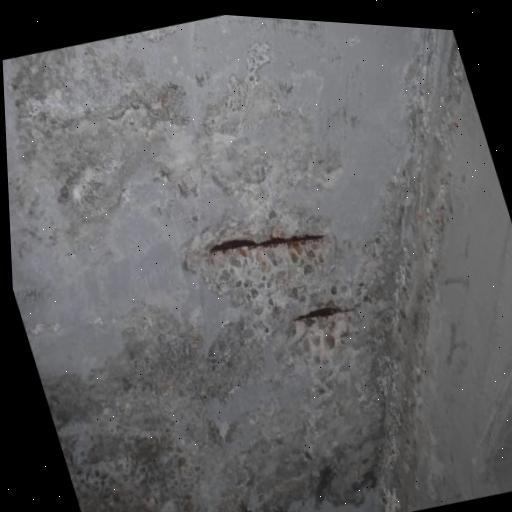exposed_rebar: (210, 233, 323, 253), (295, 306, 345, 321)
